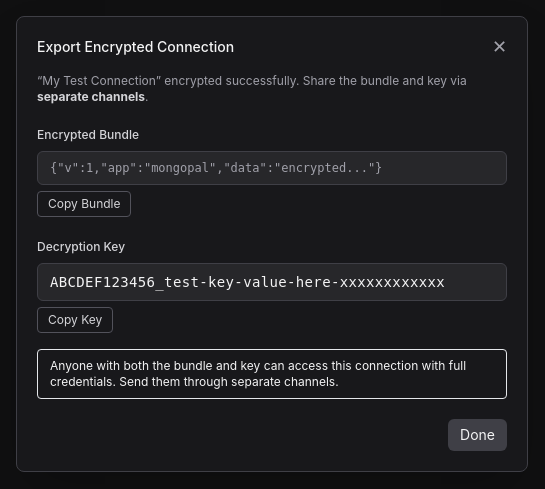
ExportEncryptedOverlay › copies bundle to clipboard and shows feedback
Click the button "Copy Bundle" at (84, 204), box [37,191,132,217]
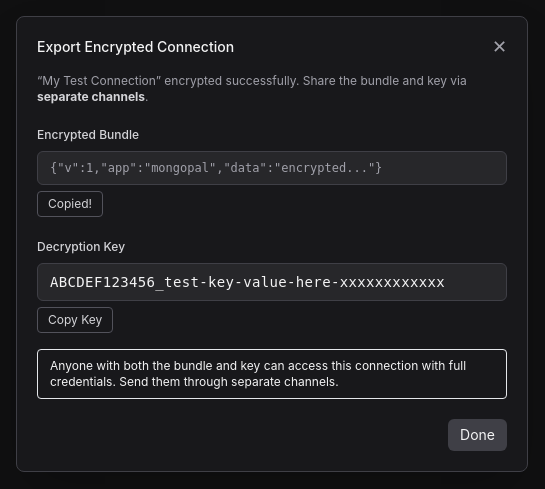
Expected: the button "Copied!" is shown, [37,191,103,217]
